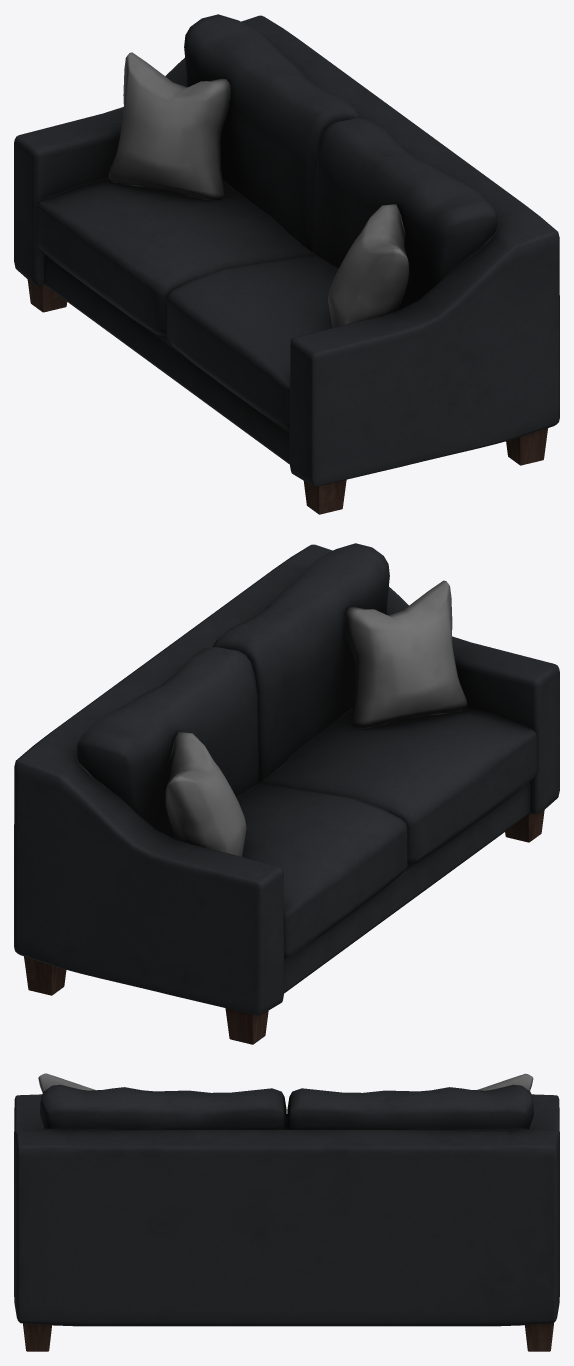
The model's file is Sofa_01.fbx.
3 renders of one model, top to bottom at view 1: azimuth 30°, elevation 25°; view 2: azimuth 150°, elevation 25°; view 3: azimuth 270°, elevation 25°, orthographic. The views are drawn at different scales.
Visible parts, largest first — view 1: Sofa_1; view 2: Sofa_1; view 3: Sofa_1.
Part boxes in pixels (x1,y1,x2,y2): Sofa_1: (14,14,559,514); Sofa_1: (14,543,559,1044); Sofa_1: (14,1073,559,1351).
Bounding box in the file's own units: 104 × 102 × 214.
